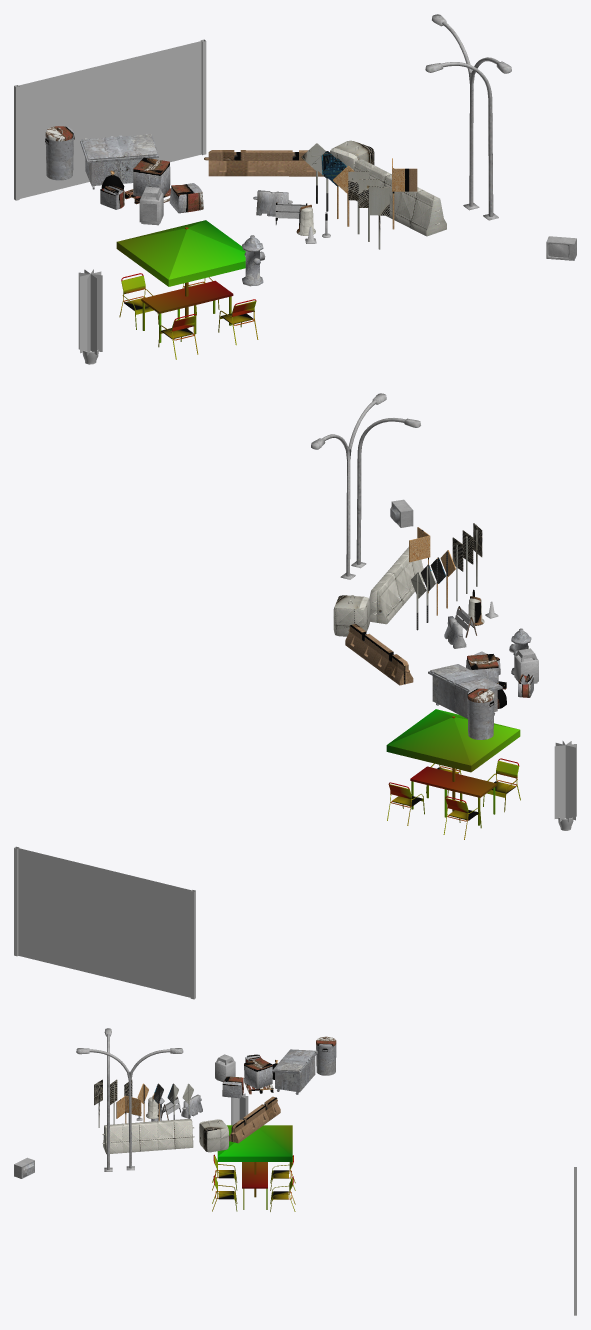
The model's file is Props.fbx.
3 views of the same model, one above another, from view 1: azimuth 30°, elevation 25°; view 2: azimuth 150°, elevation 25°; view 3: azimuth 270°, elevation 25° (orthographic). The views are drawn at different scales.
Visible parts, largest first — view 1: pasted__JAAL, pasted__tble, bask, b1, b3, pasted__PLANT, bal, STREET_LIH, b4, STREET_LIH1, b5, bas (+12 smaller); view 2: pasted__JAAL, pasted__tble, b3, bask, b1, pasted__PLANT, bal, b2, STREET_LIH, STREET_LIH1; view 3: pasted__tble, b3, bask, b1, b2, STREET_LIH, bal, b4, STREET_LIH1, bas, b5, pasted__JAAL (+2 smaller).
Part boxes in pixels (bbox=[...]): pasted__JAAL: bbox=[14, 39, 206, 200]; pasted__tble: bbox=[116, 220, 245, 342]; bask: bbox=[80, 133, 158, 189]; b1: bbox=[204, 150, 323, 176]; b3: bbox=[353, 159, 446, 236]; pasted__PLANT: bbox=[78, 269, 102, 355]; bal: bbox=[45, 126, 74, 180]; STREET_LIH: bbox=[432, 14, 511, 210]; b4: bbox=[133, 157, 170, 196]; STREET_LIH1: bbox=[425, 62, 498, 220]; b5: bbox=[169, 183, 203, 213]; bas: bbox=[139, 186, 163, 225]; pasted__JAAL: bbox=[14, 846, 195, 999]; pasted__tble: bbox=[386, 709, 520, 825]; b3: bbox=[369, 547, 423, 624]; bask: bbox=[428, 664, 502, 718]; b1: bbox=[345, 624, 413, 685]; pasted__PLANT: bbox=[554, 741, 576, 822]; bal: bbox=[467, 688, 494, 739]; b2: bbox=[333, 595, 369, 636]; STREET_LIH: bbox=[311, 393, 386, 579]; STREET_LIH1: bbox=[351, 418, 420, 568]; pasted__tble: bbox=[217, 1125, 292, 1209]; b3: bbox=[102, 1118, 194, 1154]; bask: bbox=[272, 1049, 317, 1094]; b1: bbox=[229, 1096, 280, 1143]; b2: bbox=[199, 1119, 228, 1152]; STREET_LIH: bbox=[76, 1048, 183, 1170]; bal: bbox=[316, 1036, 336, 1075]; b4: bbox=[244, 1058, 272, 1088]; STREET_LIH1: bbox=[104, 1028, 112, 1171]; bas: bbox=[215, 1054, 235, 1081]; b5: bbox=[222, 1076, 243, 1098]; pasted__JAAL: bbox=[574, 1167, 576, 1315].
Bounding box in the file's own units: 1009 × 940 × 1907.
